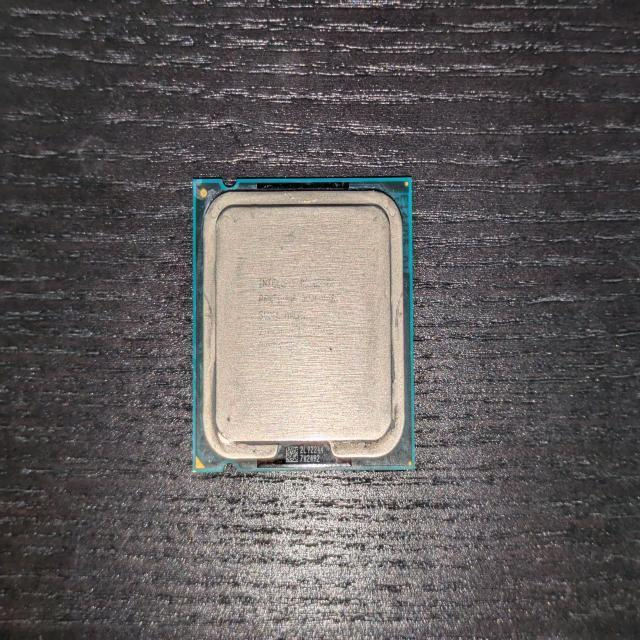CPU: (192, 176, 416, 472)
